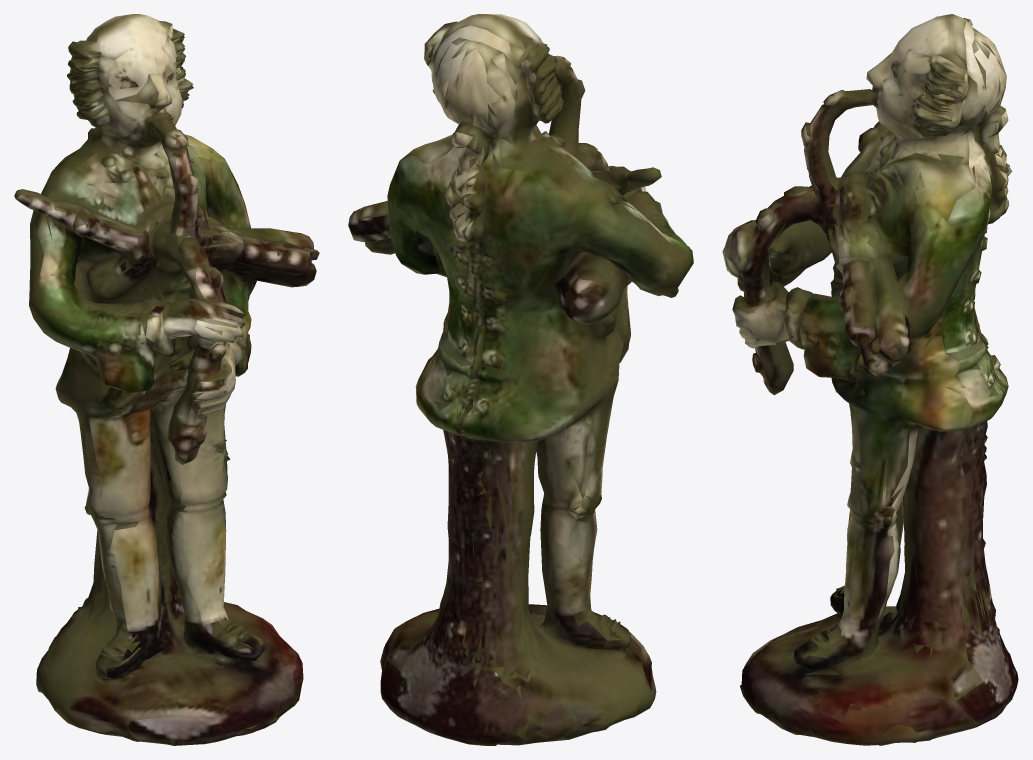
The model's file is bagpiper-20177421.glb.
The picture shows the model from 3 angles, left to right: view 1: azimuth 30°, elevation 25°; view 2: azimuth 150°, elevation 25°; view 3: azimuth 270°, elevation 25°; orthographic projection. The views are drawn at different scales.
Visible parts, largest first — view 1: Mesh; view 2: Mesh; view 3: Mesh.
Boxes of the visible parts, bbox=[...] form: Mesh: bbox=[14, 14, 319, 745]; Mesh: bbox=[348, 14, 693, 745]; Mesh: bbox=[722, 14, 1018, 745].
Size of the model in its own units: 0.0699 by 0.1501 by 0.0601.
Materials: 1 (1 with a texture image).
